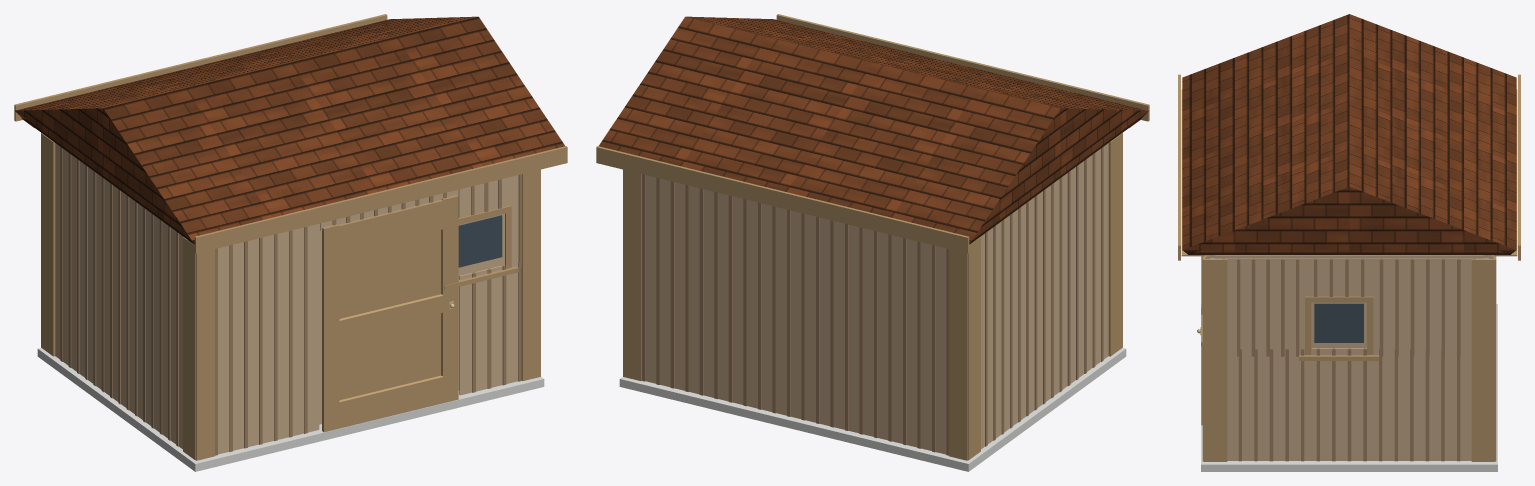
File: HarborShed.fbx
3 views of the same model, side by side, from view 1: azimuth 30°, elevation 25°; view 2: azimuth 150°, elevation 25°; view 3: azimuth 270°, elevation 25° (orthographic). The views are drawn at different scales.
Parts seen in each view (by area): view 1: LOD0; view 2: LOD0; view 3: LOD0.
Part boxes in pixels (box(x1,y1,x2,y2)): LOD0: box(14, 14, 567, 471); LOD0: box(596, 14, 1149, 471); LOD0: box(1178, 14, 1520, 471).
Size of what is drawn, in the model's own units: 396 by 312 by 332.
